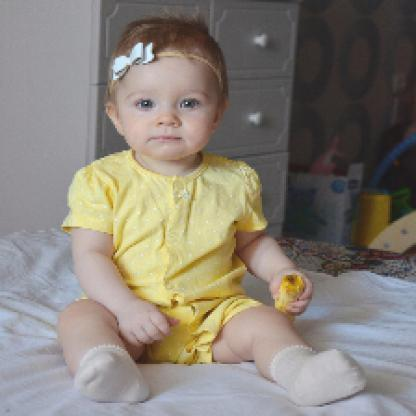child: (57, 17, 369, 407)
